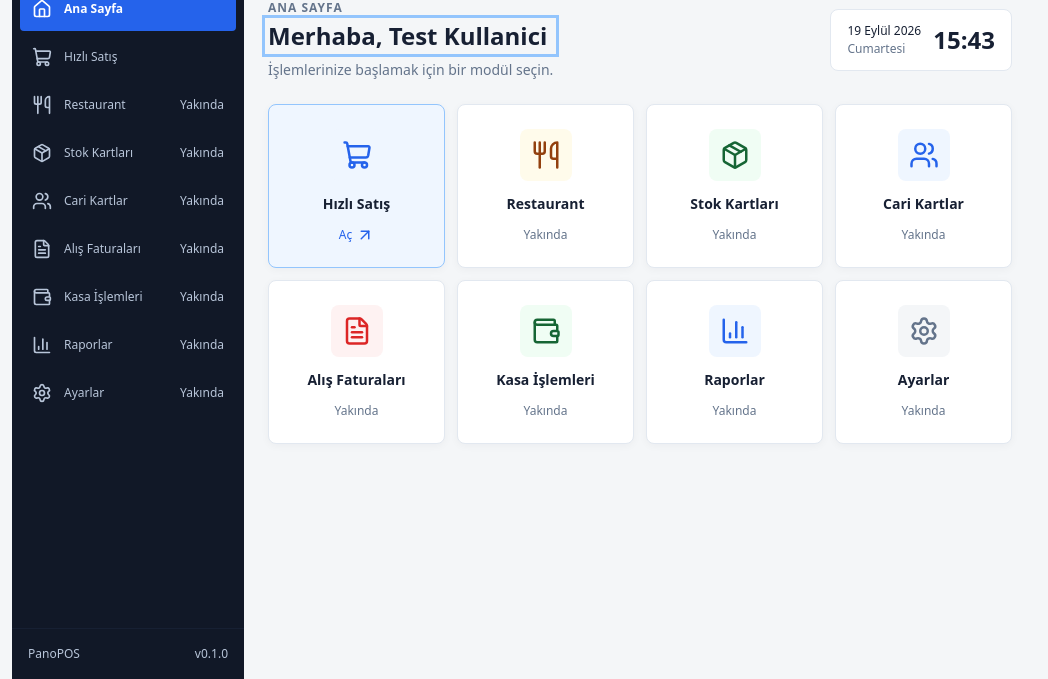
Test: Application shell › dashboard quick sale card uses the same route as navigation
Click the link "Hızlı Satış Aç". click: (356, 186)
box: [268, 104, 445, 268]
(page scrolled)
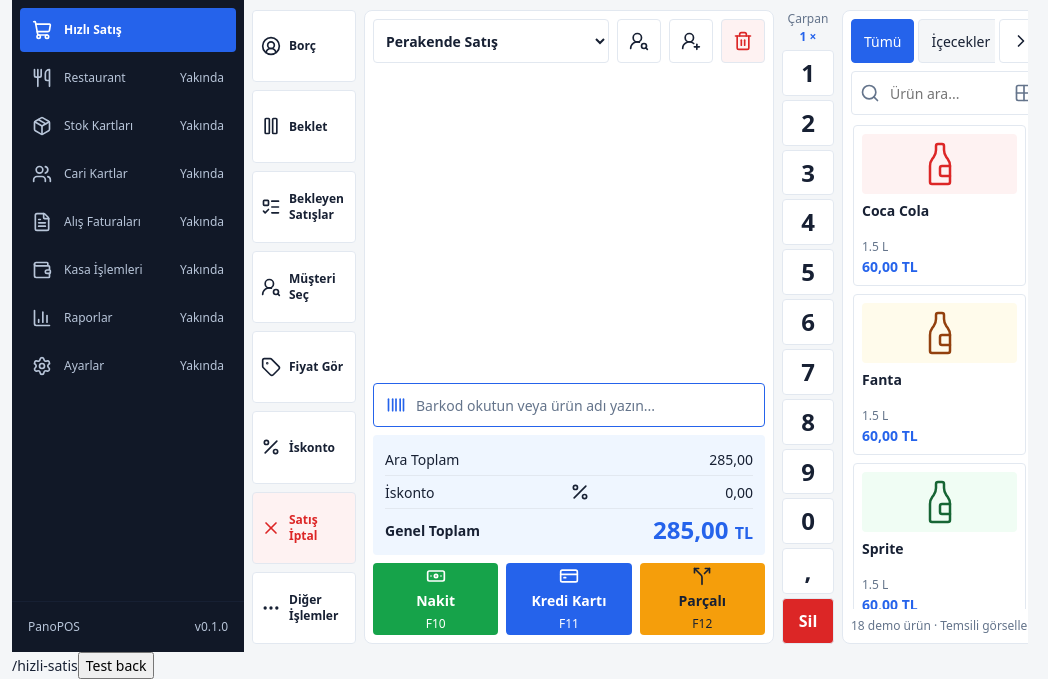
Check: the text with test id "location" reads "/hizli-satis", box [12, 656, 78, 675]
